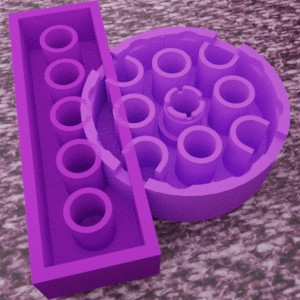lego: (8, 0, 161, 299), (80, 26, 290, 221)
